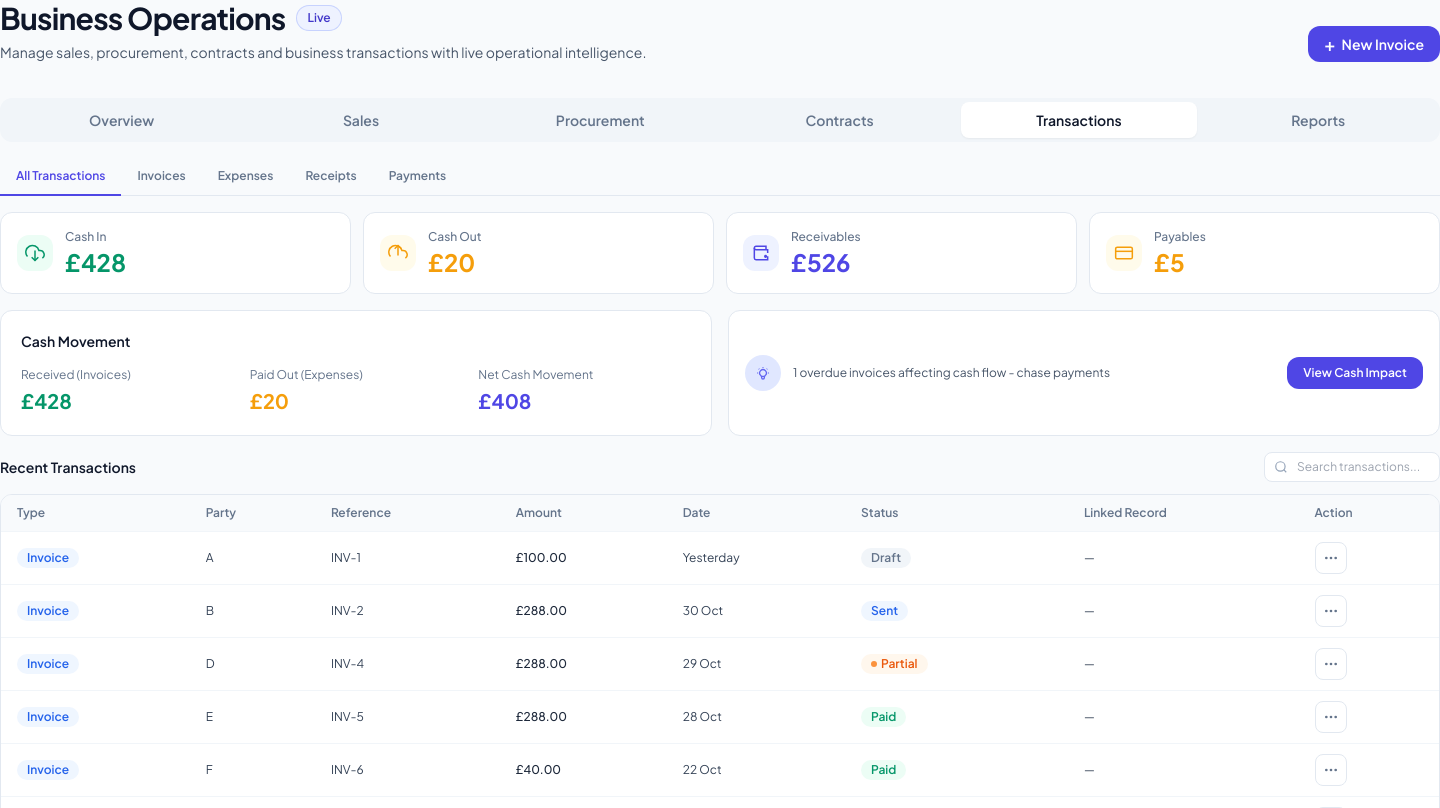
Scenario: New invoices (QA round 7) › keeps a typed number, and reopens the form with the server's message when it is a duplicate
Click the button "+ New Invoice". click: (1374, 44)
box: x1=1308 y1=26 x2=1439 y2=62
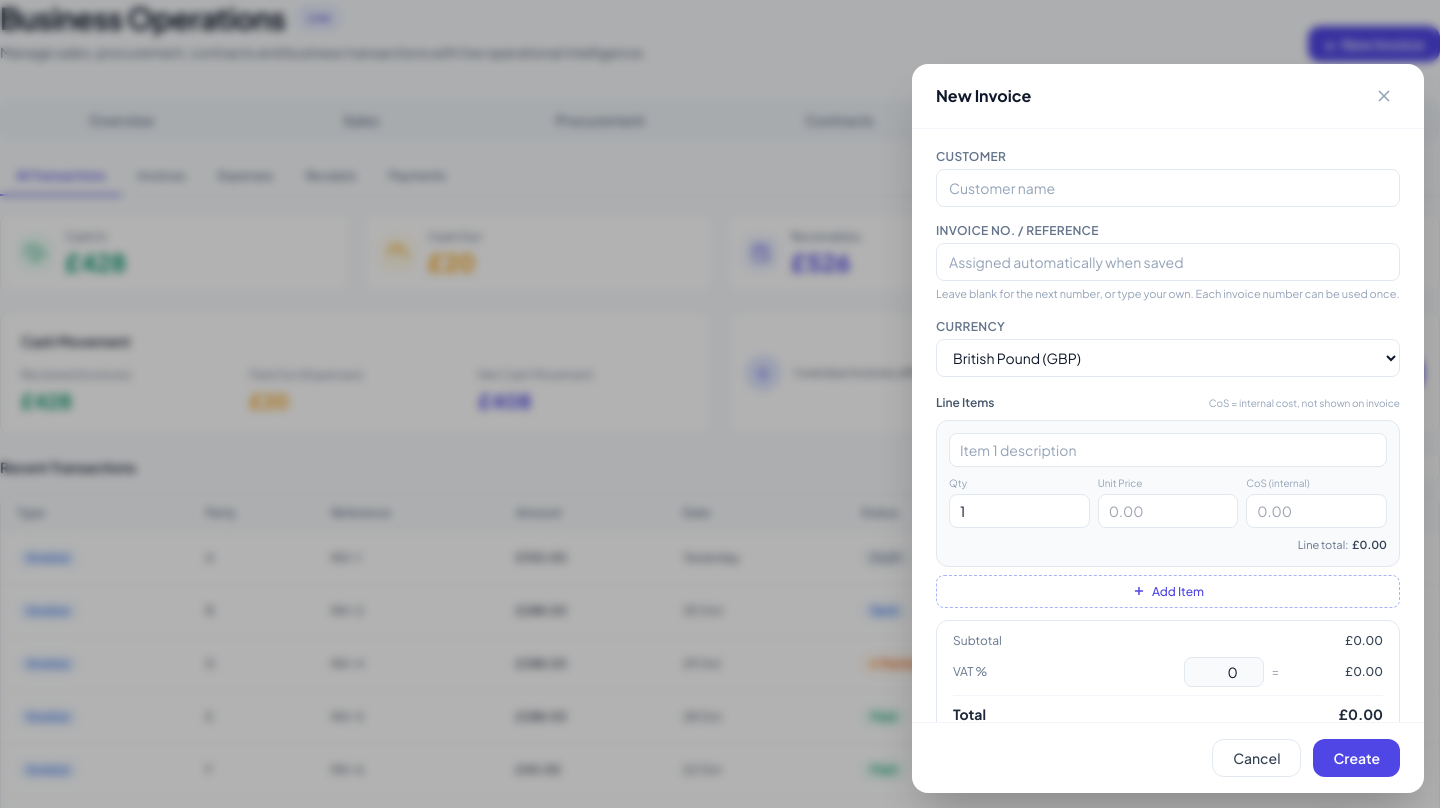
Type "QA Test Ltd" into the field with placeholder "Customer name". click: (1168, 188)
box: x1=936 y1=169 x2=1400 y2=207
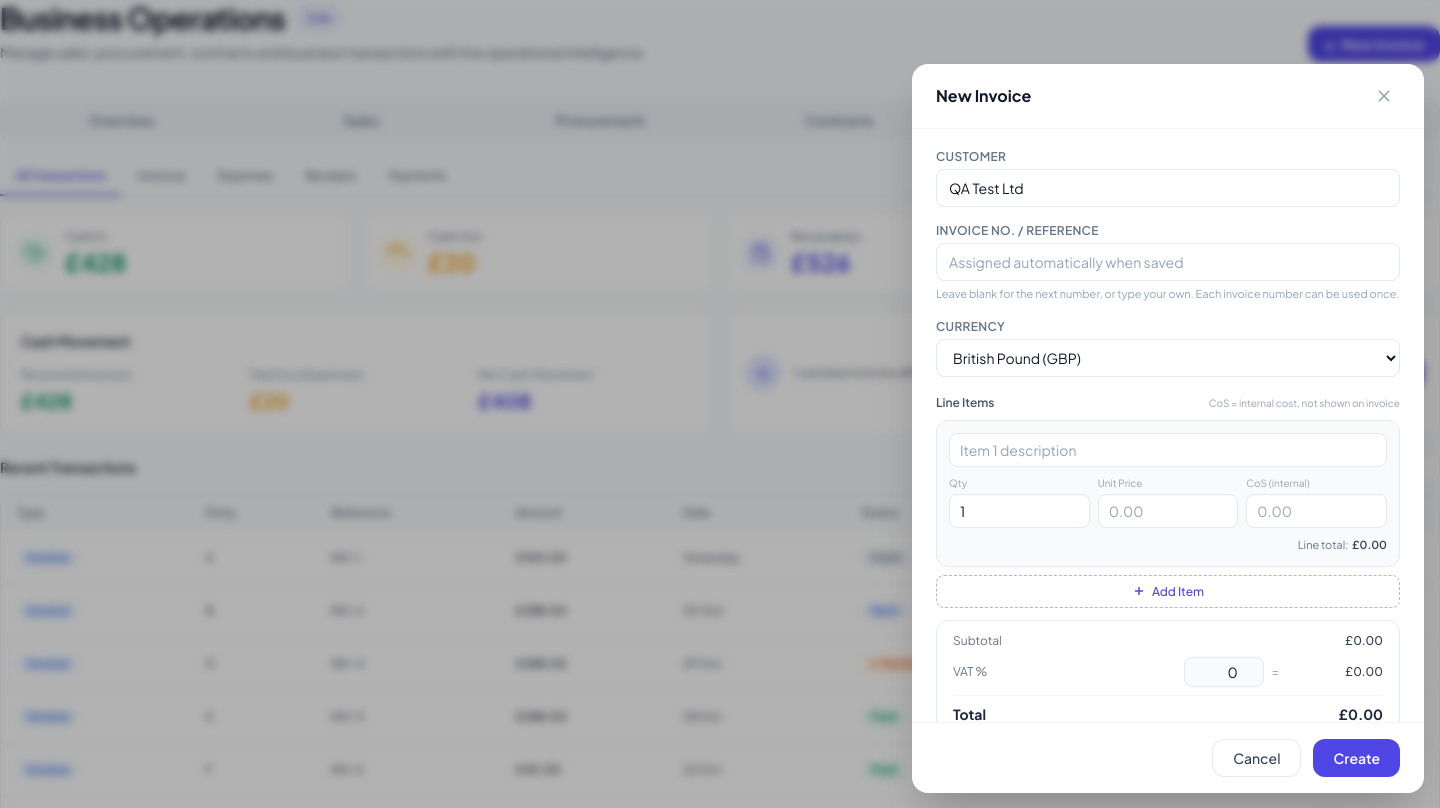
Type "INV-1" into the field with placeholder "Assigned automatically when saved". click: (1168, 262)
box: x1=936 y1=243 x2=1400 y2=281
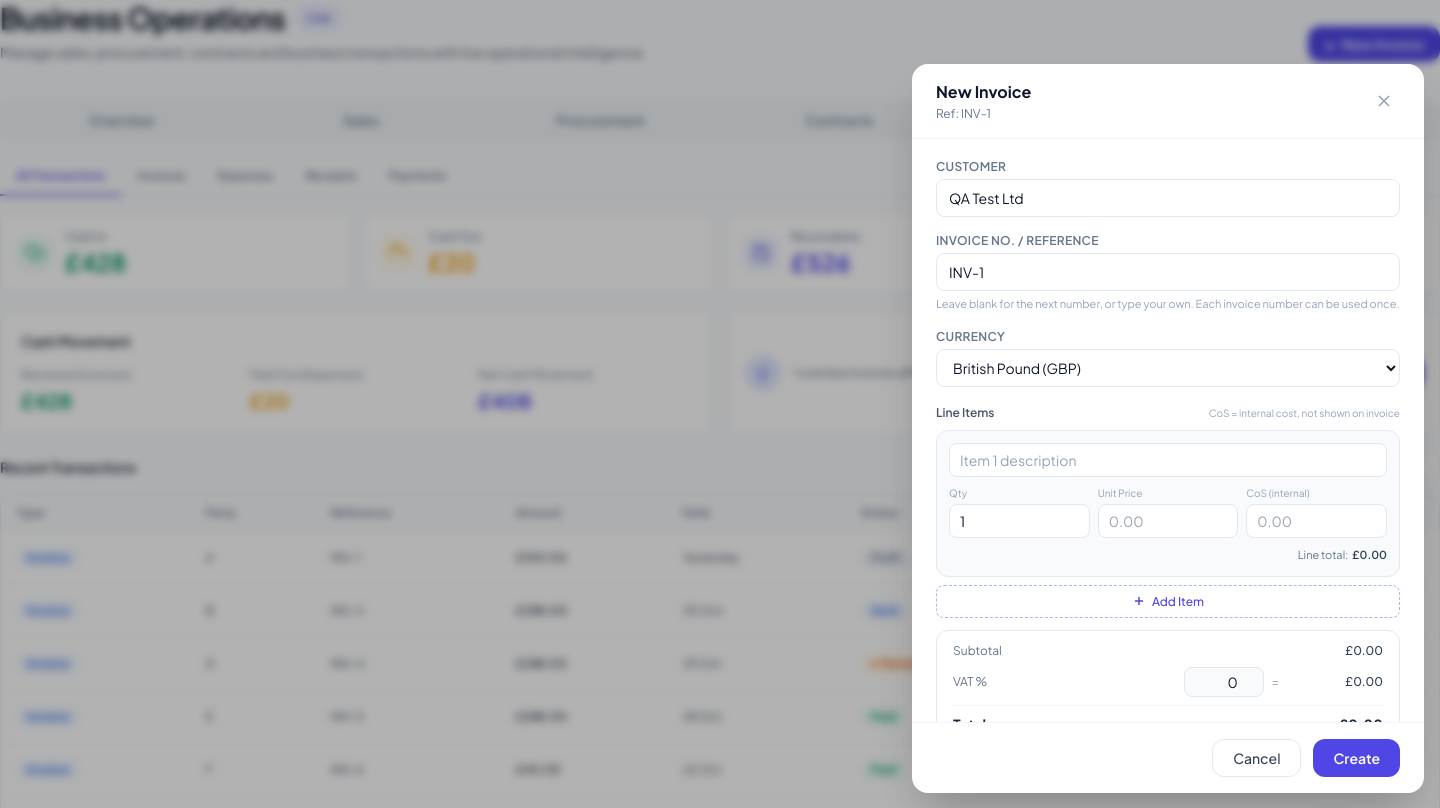
Click the button "Create". click: (1357, 758)
box: x1=1314 y1=739 x2=1400 y2=777
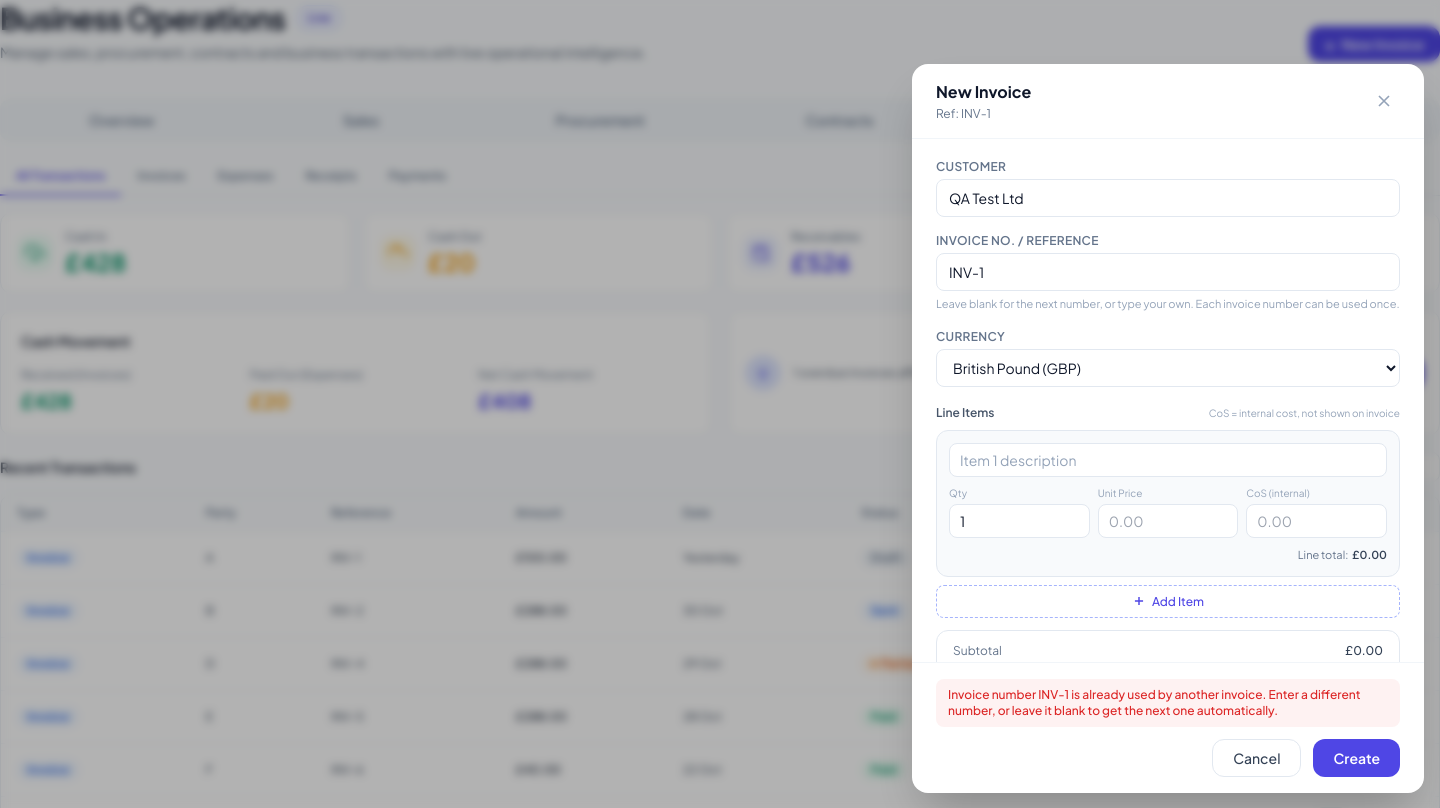
expect the field with placeholder "Customer name" below "Customer" holds "QA Test Ltd": met, box x1=936 y1=179 x2=1400 y2=217
expect the field showing "INV-1" below "Invoice No. / Reference" is shown: met, box x1=936 y1=253 x2=1400 y2=291
expect the text "INV-1 is already used by another invoice" is shown: met, box x1=948 y1=687 x2=1360 y2=718
